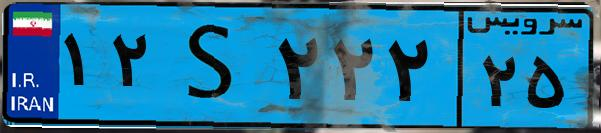1: (57, 26, 110, 100)
2: (270, 28, 330, 110), (385, 28, 445, 110), (330, 28, 385, 110), (475, 38, 525, 113), (110, 28, 158, 98)
5: (525, 38, 570, 115)
S: (158, 12, 270, 120)
